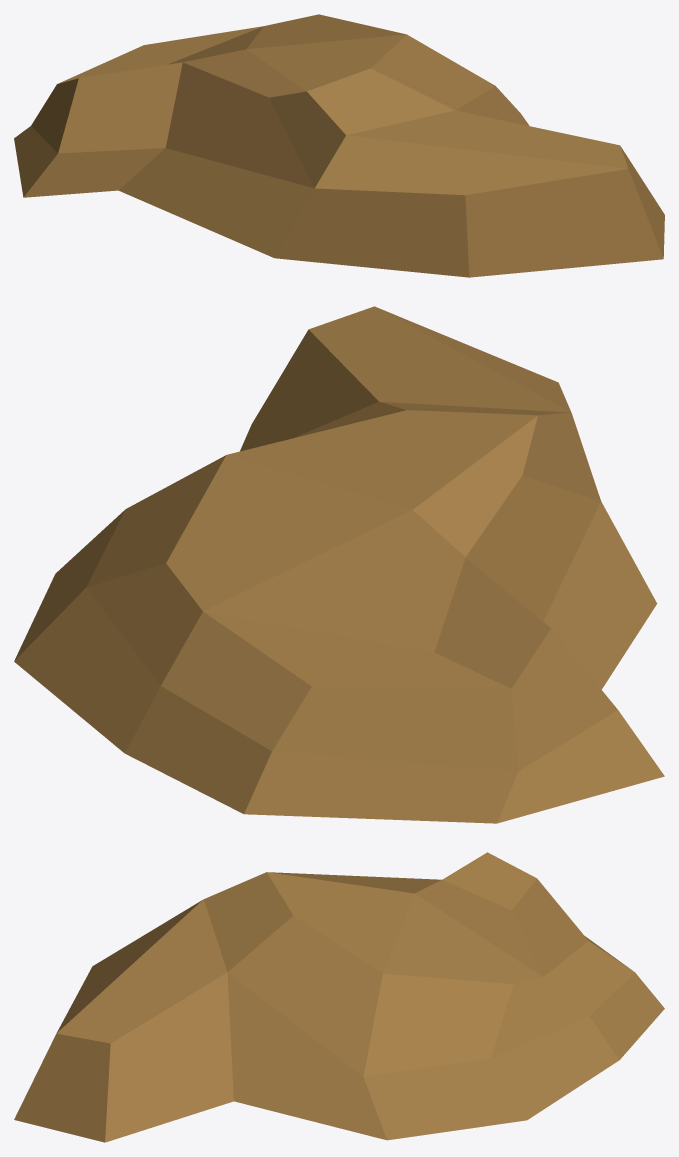
Rendered from MudRocks009.fbx.
3 views of the same model, one above another, from view 1: azimuth 30°, elevation 25°; view 2: azimuth 150°, elevation 25°; view 3: azimuth 270°, elevation 25° (orthographic). The views are drawn at different scales.
Visible parts, largest first — view 1: Cube.024; view 2: Cube.024; view 3: Cube.024.
Part boxes in pixels (box(x1,y1,x2,y2)): Cube.024: box(14, 14, 664, 277); Cube.024: box(14, 306, 664, 823); Cube.024: box(14, 852, 664, 1142).
Bounding box in the file's own units: 371 × 103 × 448.
